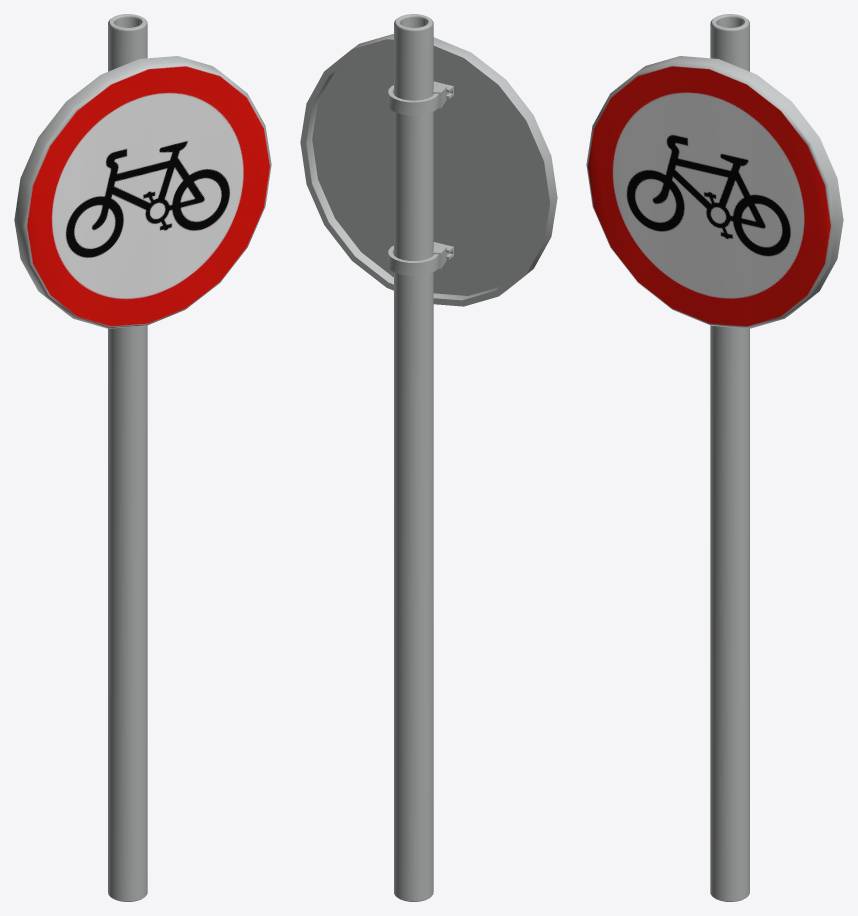
The model's file is bike_sign.glb.
3 renders of one model, left to right at view 1: azimuth 30°, elevation 25°; view 2: azimuth 150°, elevation 25°; view 3: azimuth 330°, elevation 25°, orthographic.
Parts seen in each view (by area): view 1: yuvarlak; view 2: yuvarlak; view 3: yuvarlak.
Boxes of the visible parts, bbox=[...] form: yuvarlak: bbox=[14, 14, 271, 901]; yuvarlak: bbox=[300, 14, 557, 901]; yuvarlak: bbox=[586, 14, 843, 901].
Size of the model in its own units: 0.1306 by 0.4359 by 0.0305.
Materials: 1 (1 with a texture image).
